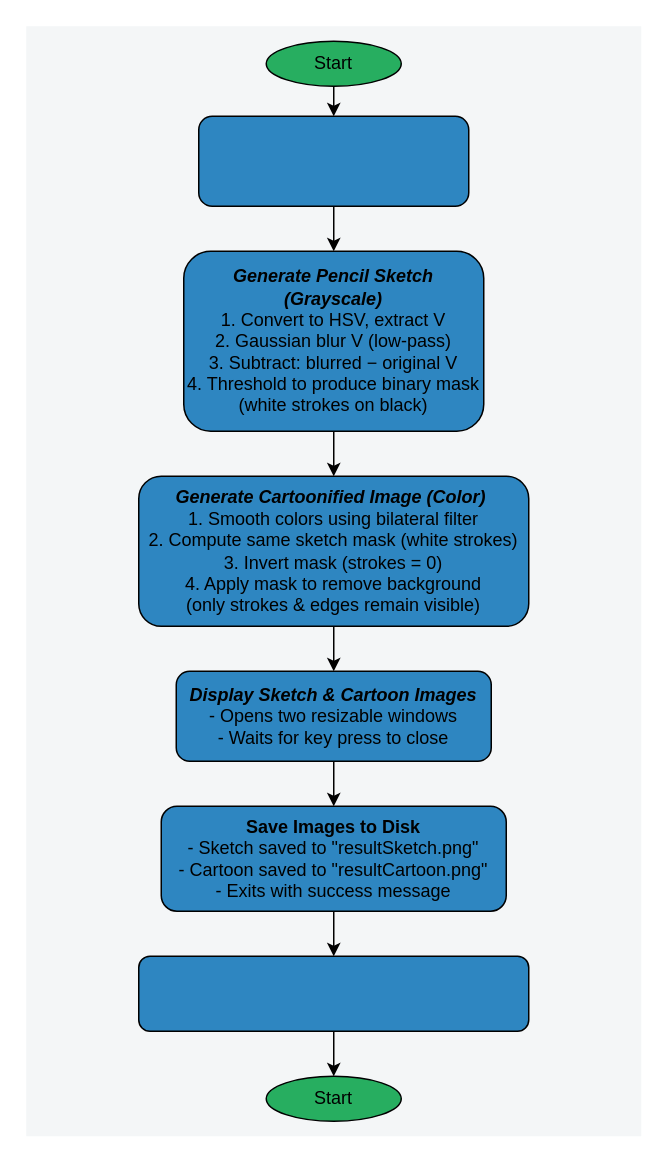
Image size: 666x1161. Some labels were removed from this diagram. The centre of each missing label's shape, as x and y in pixels:
"Display & Output" goes at (333,993).
"Load Input Image from Disk * Reads BGR image using path * Exits if loading fails" goes at (333,160).
